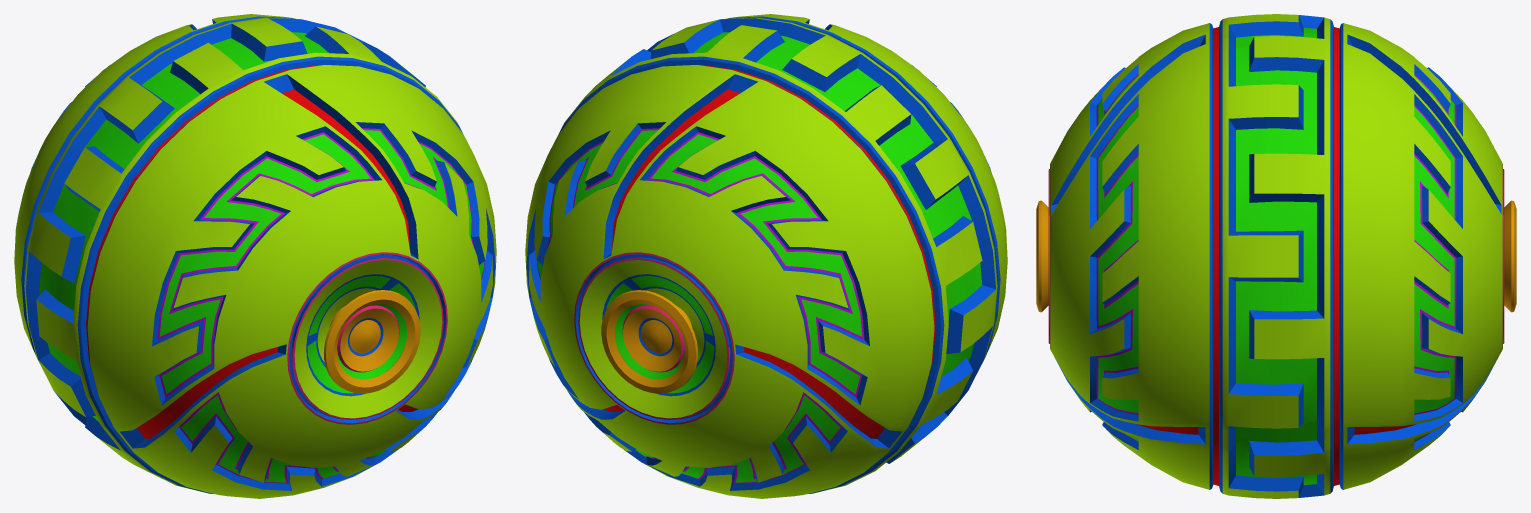
The model's file is MorphBall-Export.fbx.
3 renders of one model, left to right at view 1: azimuth 30°, elevation 25°; view 2: azimuth 150°, elevation 25°; view 3: azimuth 270°, elevation 25°, orthographic.
Parts seen in each view (by area): view 1: Sphere.016; view 2: Sphere.016; view 3: Sphere.016.
Boxes of the visible parts, <box> form: Sphere.016: <box>14,14,496,498</box>; Sphere.016: <box>525,14,1007,498</box>; Sphere.016: <box>1036,14,1516,498</box>.
Bounding box in the file's own units: 0.4974 × 0.4974 × 0.4904.
